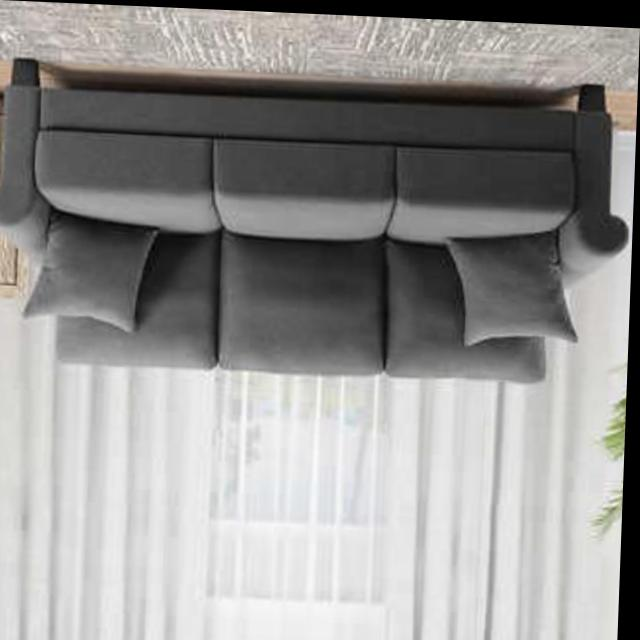Sofa: (0, 55, 637, 384)
